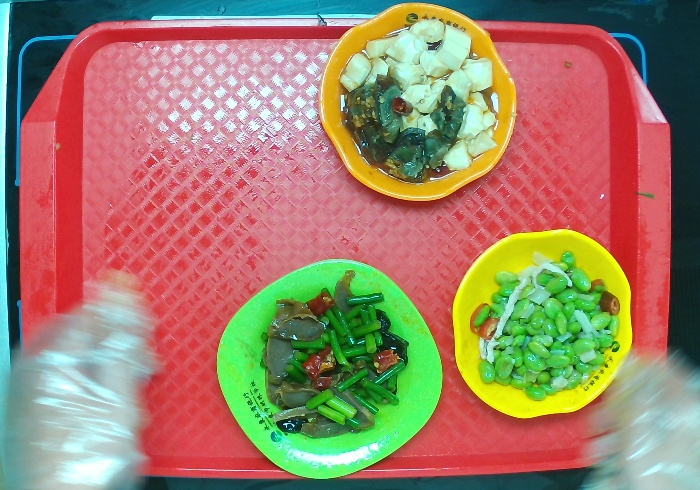YKMZ-Huang_Se_Ao_Bian_Wan: (433, 218, 648, 430)
YKMZ-Ju_Se_Ao_Bian_Wan: (310, 1, 525, 205)
YKMZ-Lv_Se_Fang_Die: (206, 251, 451, 484)
